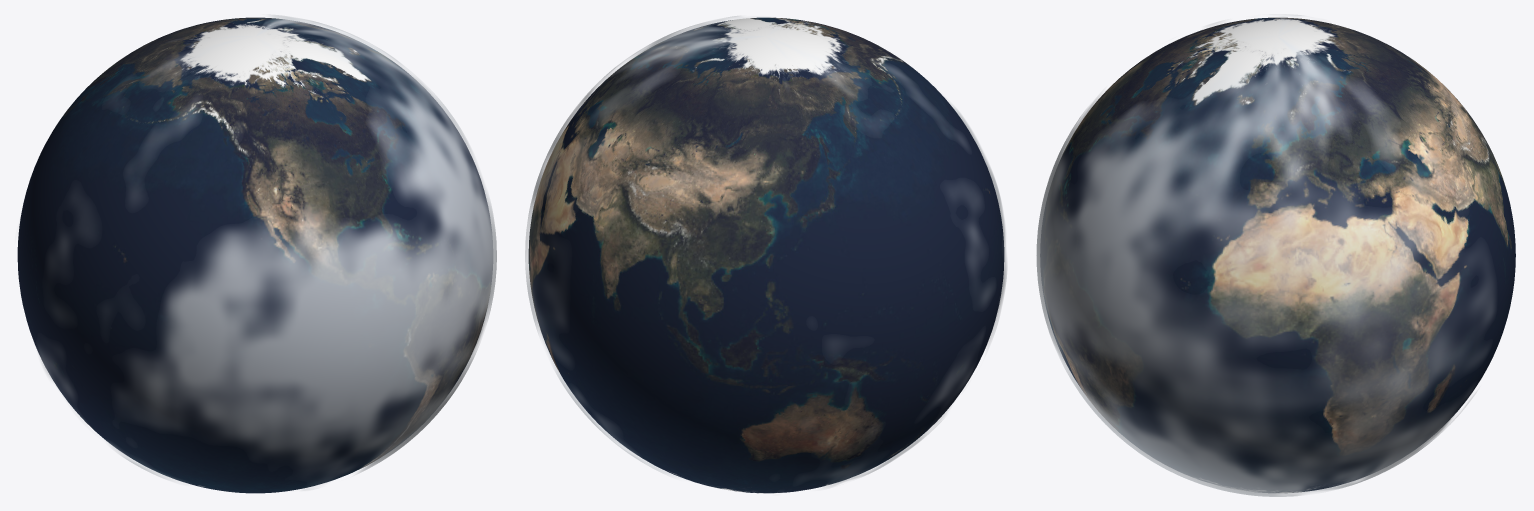
The model's file is earth.glb.
3 views of the same model, side by side, from view 1: azimuth 30°, elevation 25°; view 2: azimuth 150°, elevation 25°; view 3: azimuth 270°, elevation 25° (orthographic).
Visible parts, largest first — view 1: Earth surface, Cloud layer; view 2: Earth surface, Cloud layer; view 3: Earth surface, Cloud layer.
Boxes of the visible parts, x1=… form: Earth surface: x1=17, y1=17, x2=492, y2=493; Cloud layer: x1=37, y1=14, x2=496, y2=490; Earth surface: x1=528, y1=17, x2=1004, y2=493; Cloud layer: x1=525, y1=16, x2=1007, y2=488; Earth surface: x1=1040, y1=17, x2=1515, y2=493; Cloud layer: x1=1036, y1=14, x2=1494, y2=496.
Bounding box in the file's own units: 2 × 2 × 2.
Materials: 2 (2 with a texture image).
